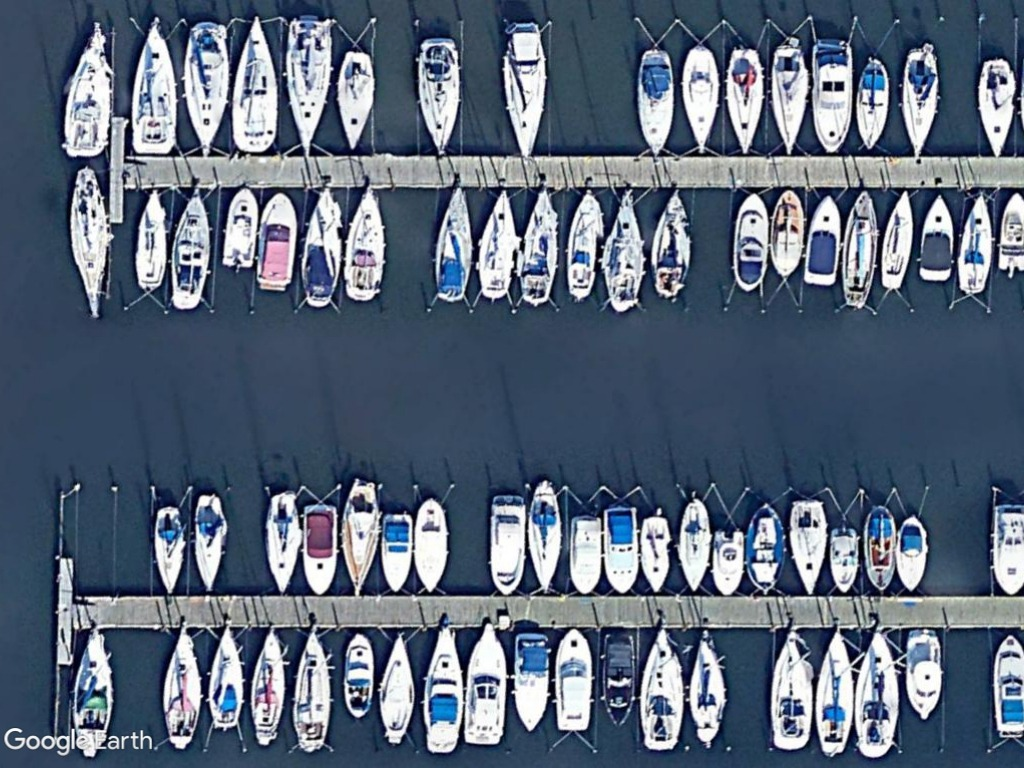boat: (276, 12, 338, 161), (62, 165, 120, 324), (122, 15, 181, 158), (60, 21, 119, 162), (495, 16, 550, 158), (226, 14, 280, 156), (180, 19, 234, 157), (761, 625, 816, 754), (458, 620, 512, 749), (851, 627, 903, 760), (164, 181, 214, 313), (421, 622, 470, 756), (804, 33, 857, 156), (635, 626, 685, 755), (67, 626, 115, 759), (677, 627, 728, 751), (413, 33, 463, 159), (286, 626, 335, 754), (646, 185, 699, 303), (598, 184, 646, 314), (338, 475, 387, 602), (339, 182, 390, 304), (811, 626, 858, 757), (297, 183, 346, 308), (156, 627, 205, 751), (894, 42, 945, 159), (429, 184, 478, 305), (516, 184, 563, 305), (475, 184, 521, 305), (372, 627, 419, 745), (479, 488, 528, 600), (720, 41, 766, 159), (767, 37, 811, 160), (676, 41, 723, 156), (254, 187, 304, 294), (561, 187, 607, 303), (837, 185, 879, 312), (330, 48, 379, 156), (246, 626, 289, 747), (741, 494, 791, 598), (508, 627, 554, 740), (633, 43, 678, 157), (549, 625, 595, 736), (724, 187, 771, 294), (953, 188, 998, 299), (261, 487, 305, 600), (524, 474, 564, 597), (872, 186, 916, 296), (409, 490, 453, 600), (785, 495, 831, 598), (984, 627, 1024, 745), (206, 625, 249, 734), (130, 183, 172, 294), (800, 190, 847, 289), (668, 492, 712, 597), (900, 624, 946, 724), (595, 625, 637, 733), (190, 487, 231, 596), (974, 53, 1017, 156), (218, 181, 263, 275), (599, 500, 642, 598), (148, 500, 191, 598), (297, 499, 339, 598), (916, 190, 957, 287), (764, 185, 806, 279), (852, 56, 891, 156), (563, 509, 605, 601), (858, 500, 896, 594), (377, 507, 415, 600), (339, 628, 376, 720), (891, 509, 930, 594), (636, 512, 673, 597), (706, 522, 746, 599), (827, 524, 860, 596)
